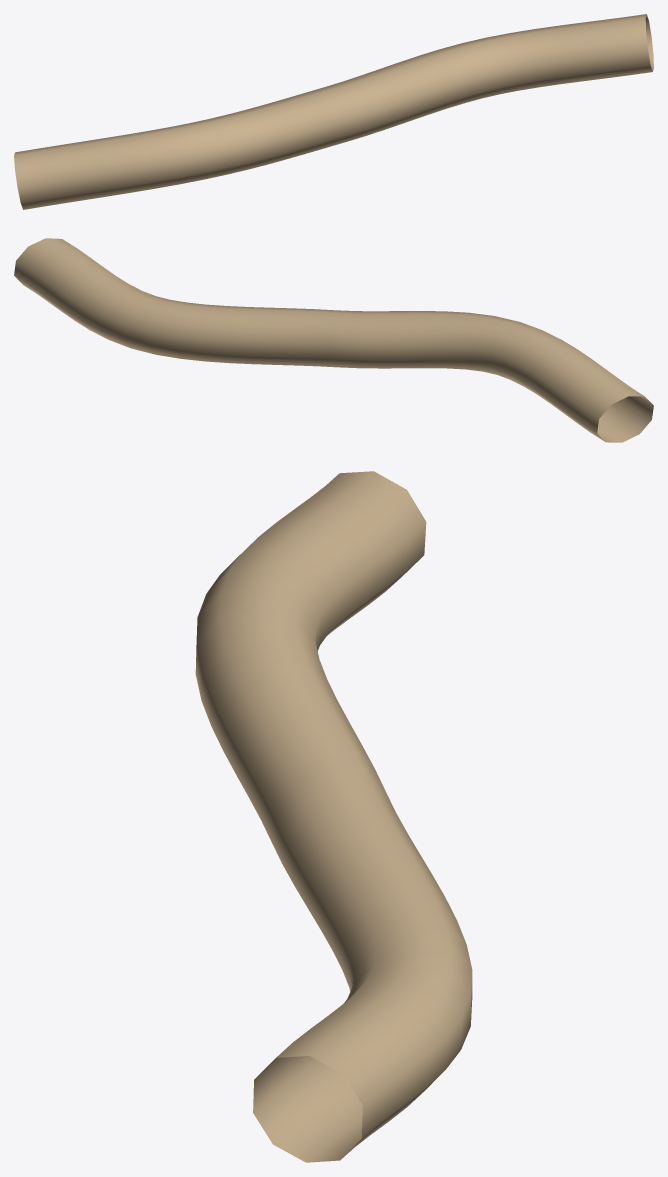
The model's file is left_clavicle.glb.
3 renders of one model, top to bottom at view 1: azimuth 30°, elevation 25°; view 2: azimuth 150°, elevation 25°; view 3: azimuth 270°, elevation 25°, orthographic. The views are drawn at different scales.
Visible parts, largest first — view 1: left_clavicle:s-curve; view 2: left_clavicle:s-curve; view 3: left_clavicle:s-curve.
Boxes of the visible parts, <box> form: left_clavicle:s-curve: <box>14,14,653,209</box>; left_clavicle:s-curve: <box>14,238,653,442</box>; left_clavicle:s-curve: <box>195,471,472,1162</box>.
Bounding box in the file's own units: 1.01 × 0.1152 × 0.192.
